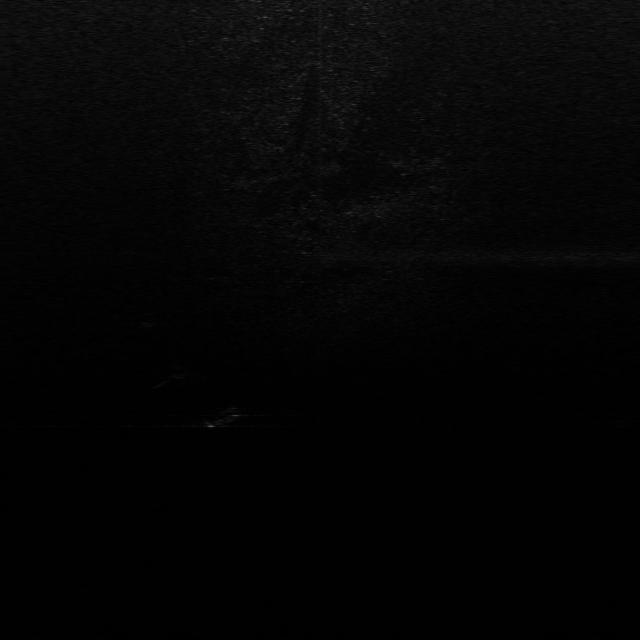ball: (168, 364, 197, 379)
circle cage: (138, 313, 162, 329)
tyre: (203, 404, 241, 429)
